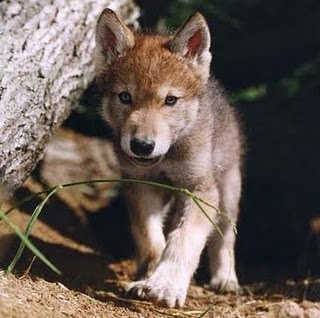Lobo: (88, 5, 256, 302)
